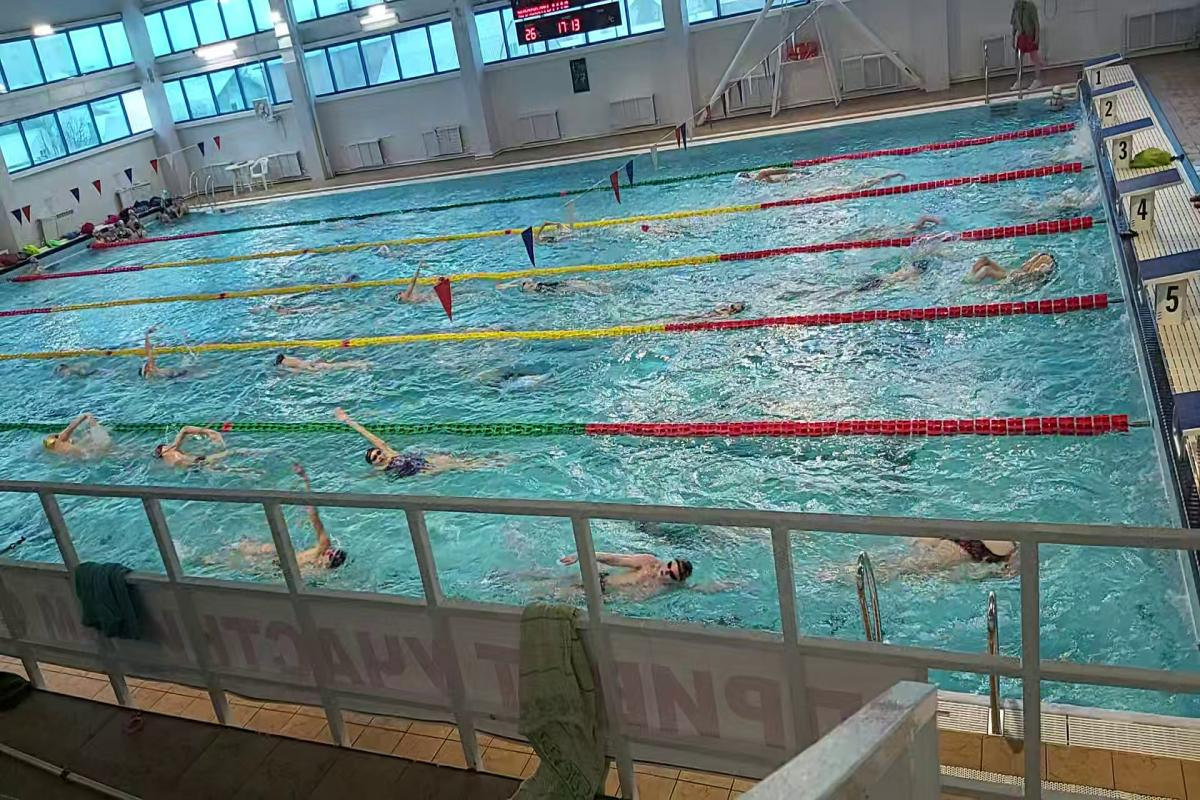swimmer: (499, 541, 733, 614), (800, 533, 1014, 606), (340, 416, 504, 482), (208, 517, 374, 579), (824, 251, 946, 301), (150, 426, 264, 477), (963, 246, 1068, 295), (31, 414, 118, 465), (668, 276, 758, 321), (266, 348, 378, 384), (140, 334, 208, 390), (502, 273, 632, 298), (728, 164, 816, 192), (856, 209, 946, 235), (250, 292, 326, 318), (391, 269, 437, 310), (51, 353, 106, 383), (535, 218, 566, 244)
